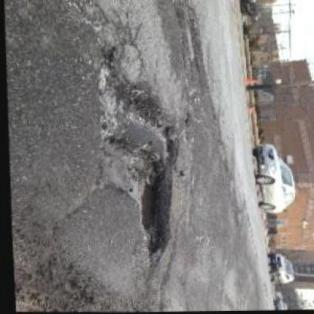Hueco: (91, 66, 182, 256), (174, 19, 200, 71)
